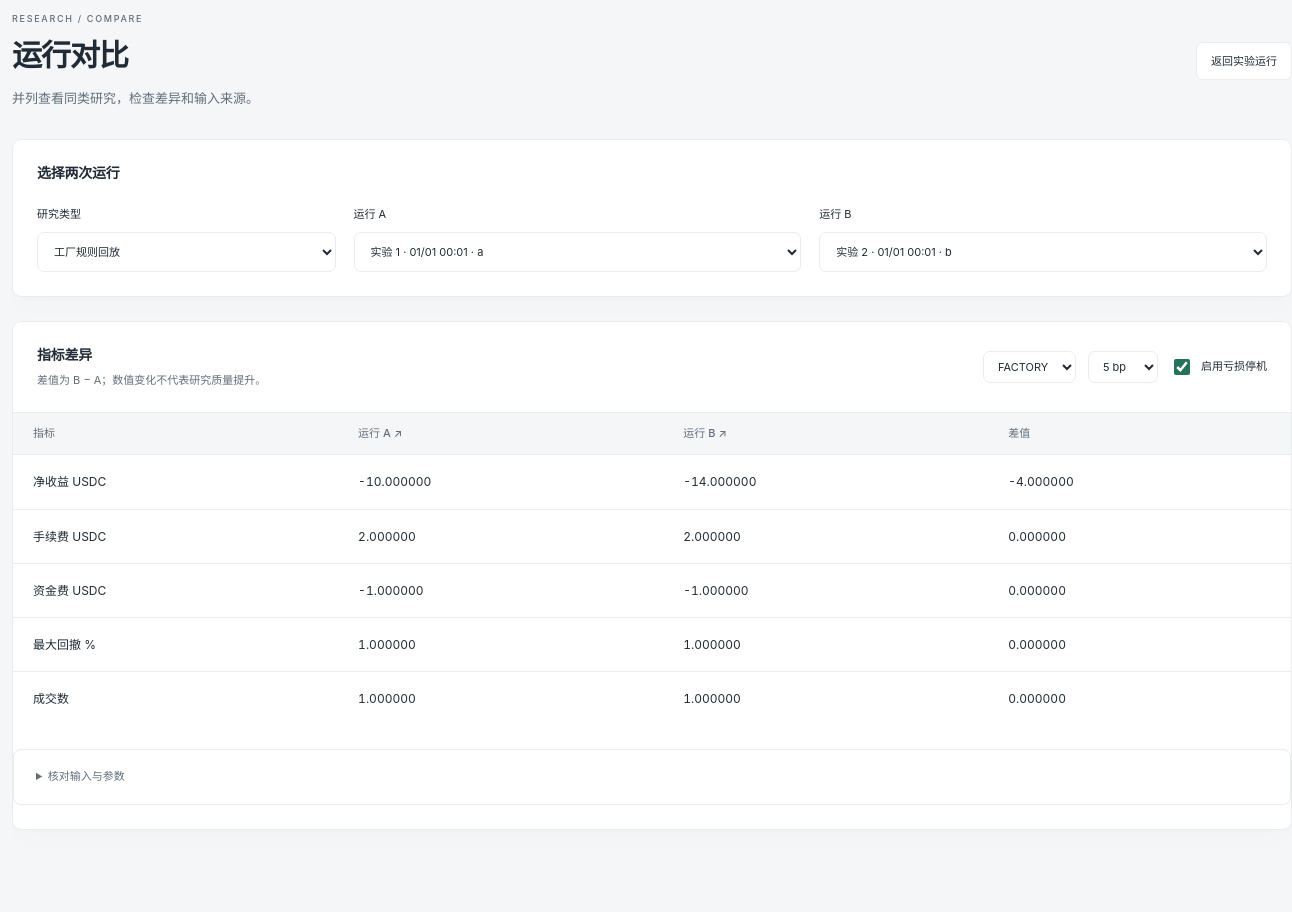
Test: compares the same policy and preserves missing failed-scenario values
Expected: the text "-4.000000" is shown, [988,455,1291,509]
Select "10 bp" in the dropdown named "对比滑点". click: {"x": 1123, "y": 367}
box: [1088,351,1158,383]
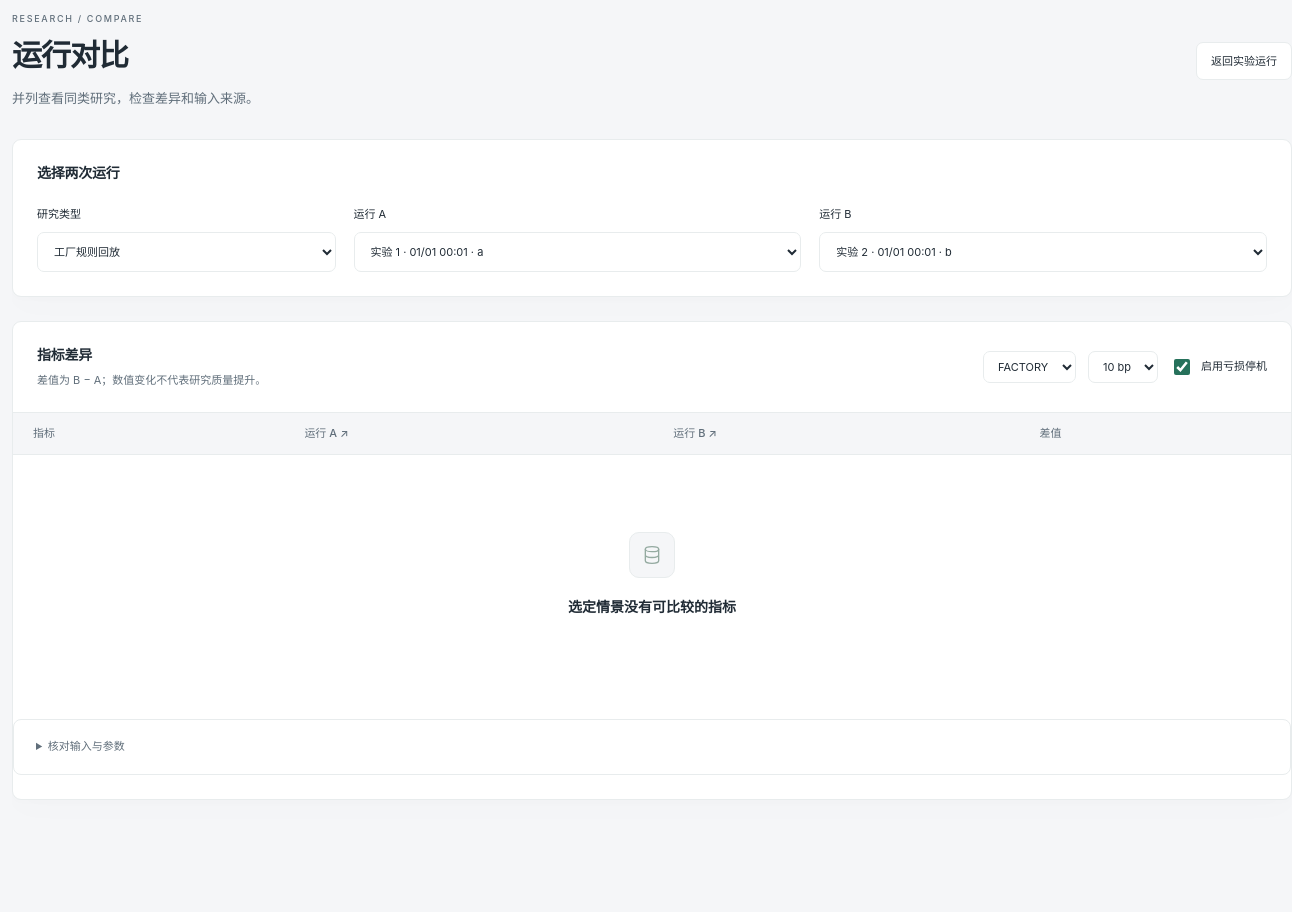
Expected: the heading "选定情景没有可比较的指标" is shown, [568,596,736,618]
Expected: the text "-4.000000" is gone
